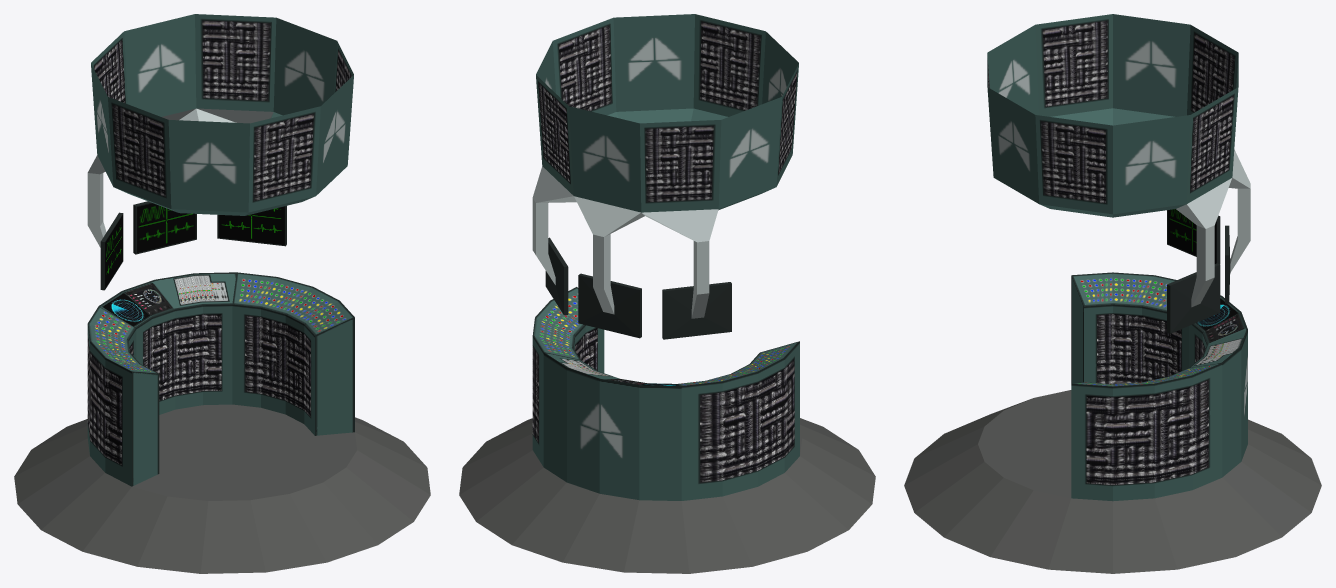
The model's file is ControlStation.fbx.
3 views of the same model, side by side, from view 1: azimuth 30°, elevation 25°; view 2: azimuth 150°, elevation 25°; view 3: azimuth 270°, elevation 25° (orthographic).
Parts seen in each view (by area): view 1: pasted__pSphere2; view 2: pasted__pSphere2; view 3: pasted__pSphere2.
Part boxes in pixels (left/top/right/bottom): pasted__pSphere2: left=14, top=14, right=430, bottom=573; pasted__pSphere2: left=459, top=14, right=875, bottom=573; pasted__pSphere2: left=904, top=14, right=1321, bottom=573.
Size of the model in its own units: 4.55 by 5 by 4.55.
